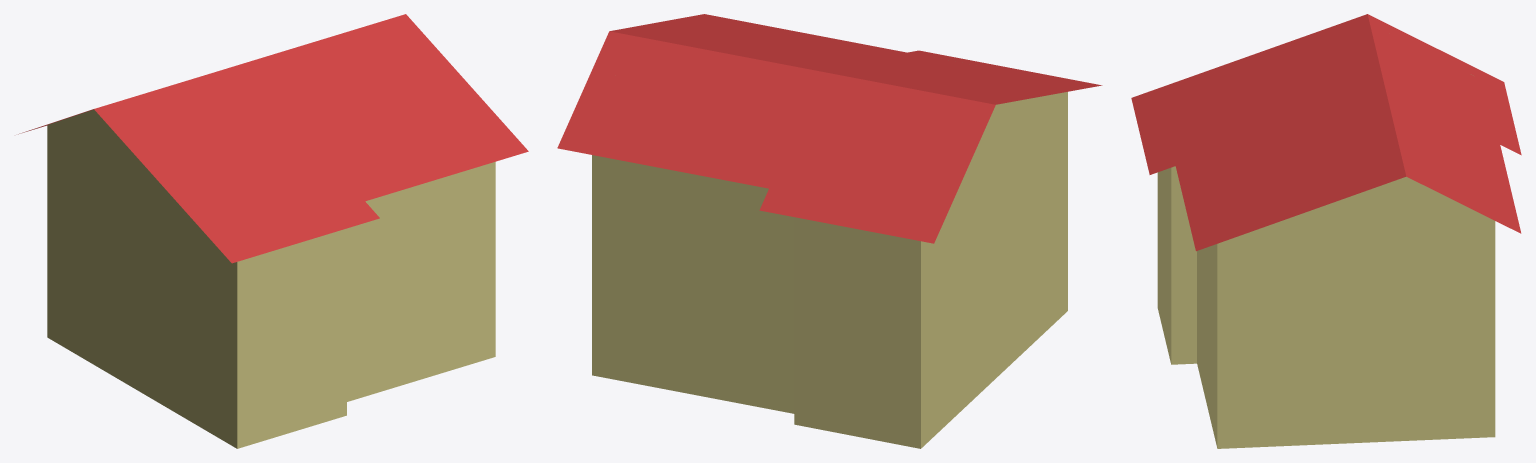
The picture shows the model from 3 angles, left to right: view 1: azimuth 30°, elevation 25°; view 2: azimuth 150°, elevation 25°; view 3: azimuth 270°, elevation 25°; orthographic projection. The views are drawn at different scales.
Size of the model in its own units: 13.11 by 12.19 by 9.46.
